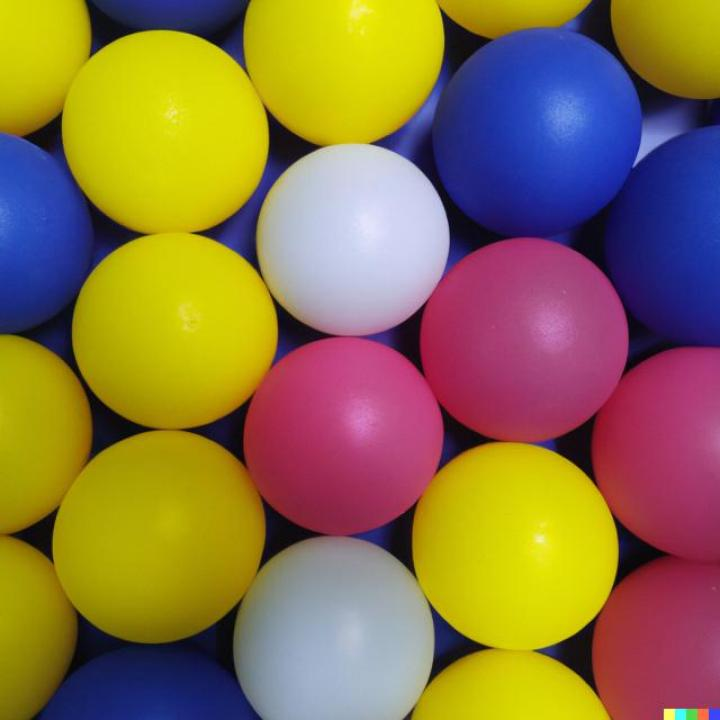white: (255, 141, 451, 338), (232, 535, 433, 720)
